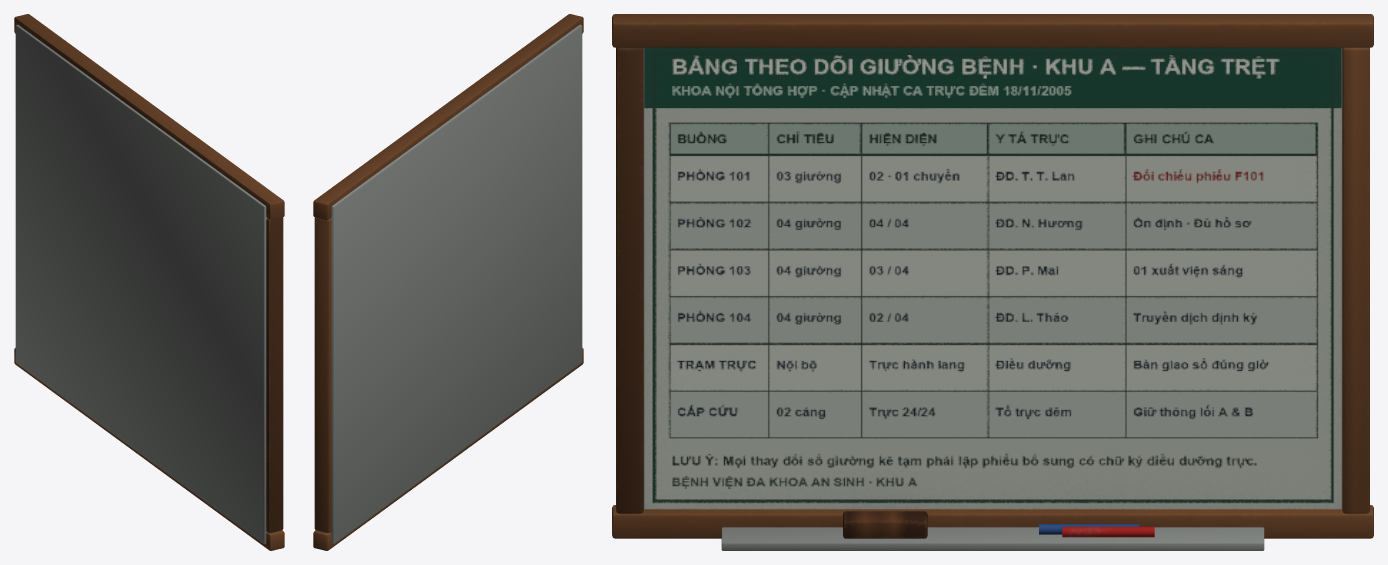
The model's file is CTCC_STAFF_BedStatusBoard.fbx.
3 views of the same model, side by side, from view 1: azimuth 30°, elevation 25°; view 2: azimuth 150°, elevation 25°; view 3: azimuth 270°, elevation 25° (orthographic). The views are drawn at different scales.
Parts seen in each view (by area): view 1: CTCC_STAFF_BedStatusBoard; view 2: CTCC_STAFF_BedStatusBoard; view 3: CTCC_STAFF_BedStatusBoard.
Boxes of the visible parts, x1,y1,x2,y2 form: CTCC_STAFF_BedStatusBoard: (14,14,284,550); CTCC_STAFF_BedStatusBoard: (313,14,583,550); CTCC_STAFF_BedStatusBoard: (612,14,1373,550).
Bounding box in the file's own units: 0.088 × 0.74 × 0.99.
